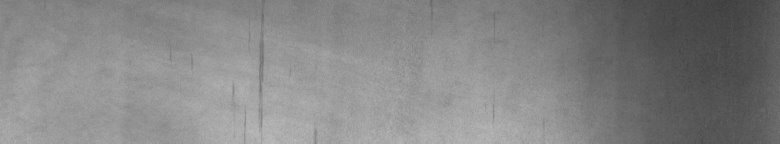ka: (232, 13, 317, 136)
